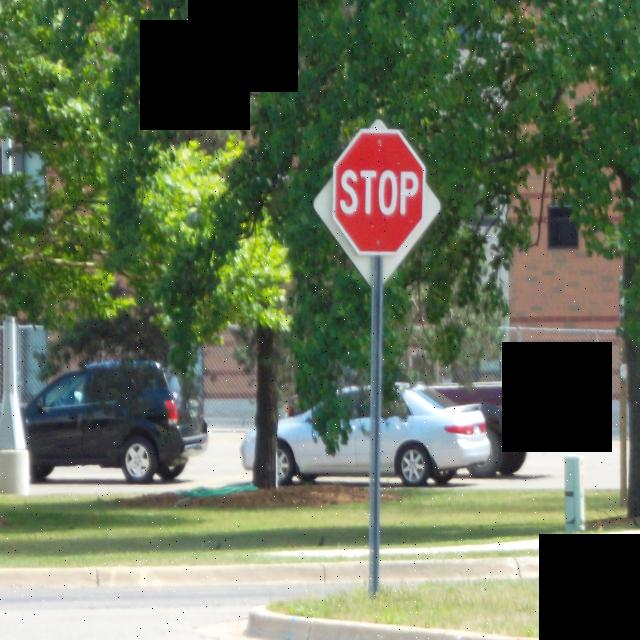stop: (328, 120, 430, 258)
